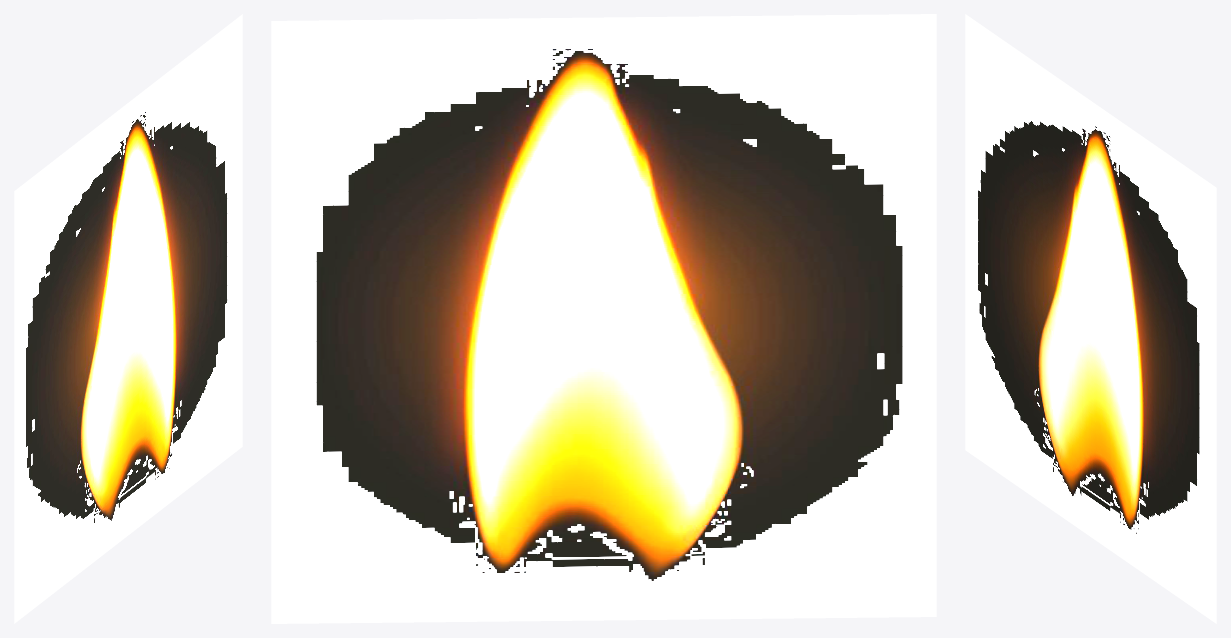
The picture shows the model from 3 angles, left to right: view 1: azimuth 30°, elevation 25°; view 2: azimuth 150°, elevation 25°; view 3: azimuth 270°, elevation 25°; orthographic projection. The views are drawn at different scales.
Visible parts, largest first — view 1: _243; view 2: _243; view 3: _243.
Boxes of the visible parts, left/top/right/bottom form: _243: left=14, top=14, right=242, bottom=623; _243: left=271, top=14, right=936, bottom=623; _243: left=965, top=14, right=1216, bottom=623.
Size of the model in its own units: 6.06 by 7.1 by 3.7.
